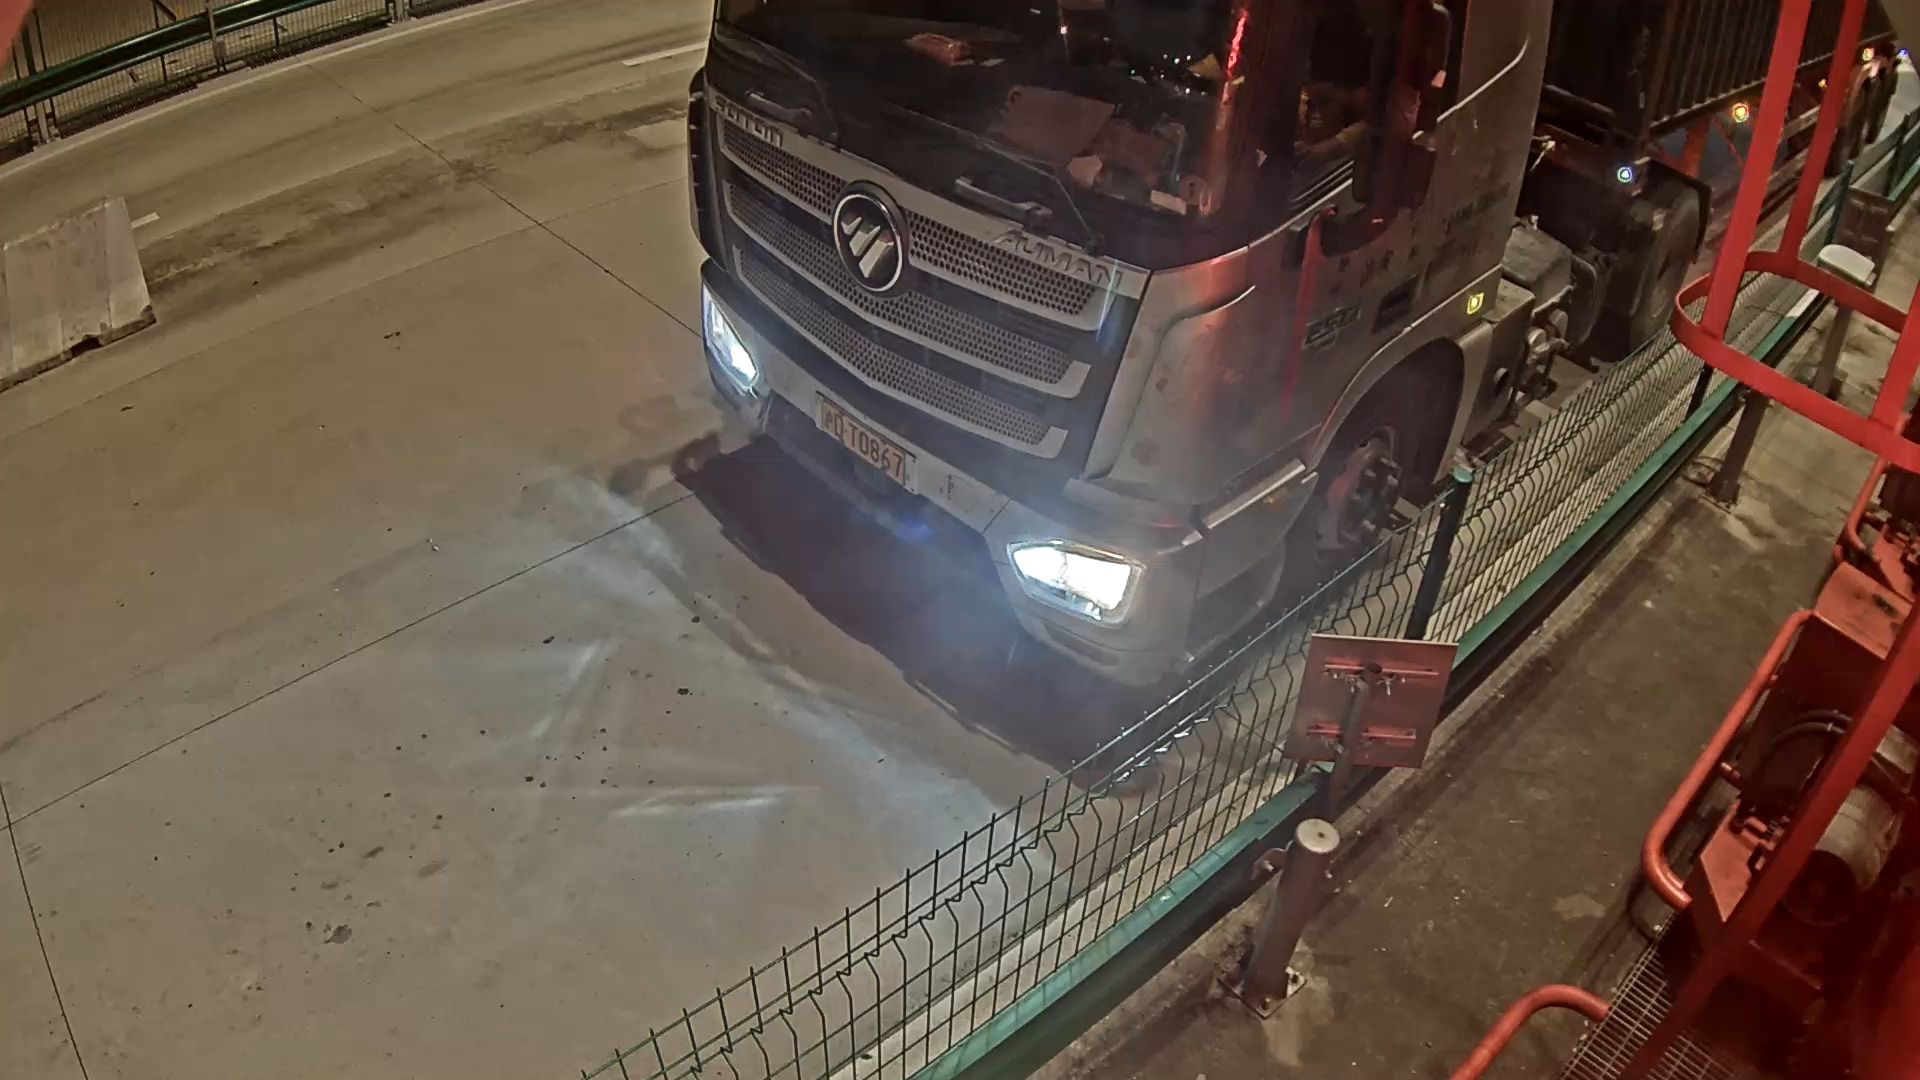head: (683, 9, 1424, 721)
plate: (810, 404, 929, 488)
